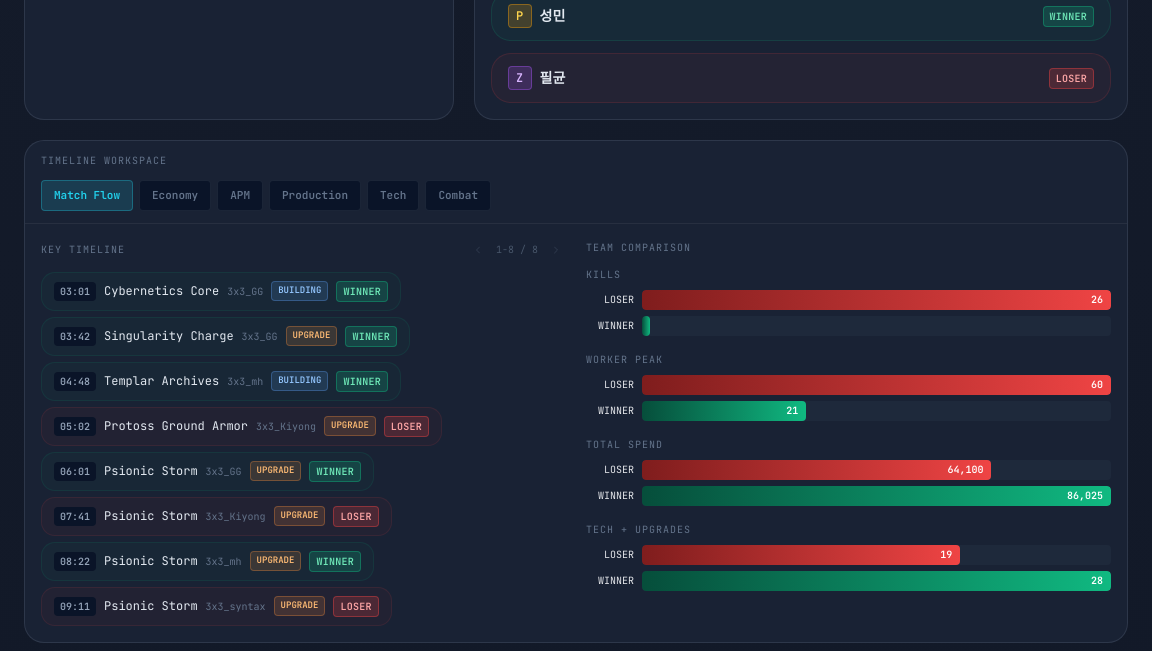
analyzer page › lets match-flow marker clicks focus and clear the shared selected-player state
(page scrolled)
Click the button "03:01 Cybernetics Core 3x3_GG BUILDING WINNER" at (221, 291), box [41, 272, 401, 310]
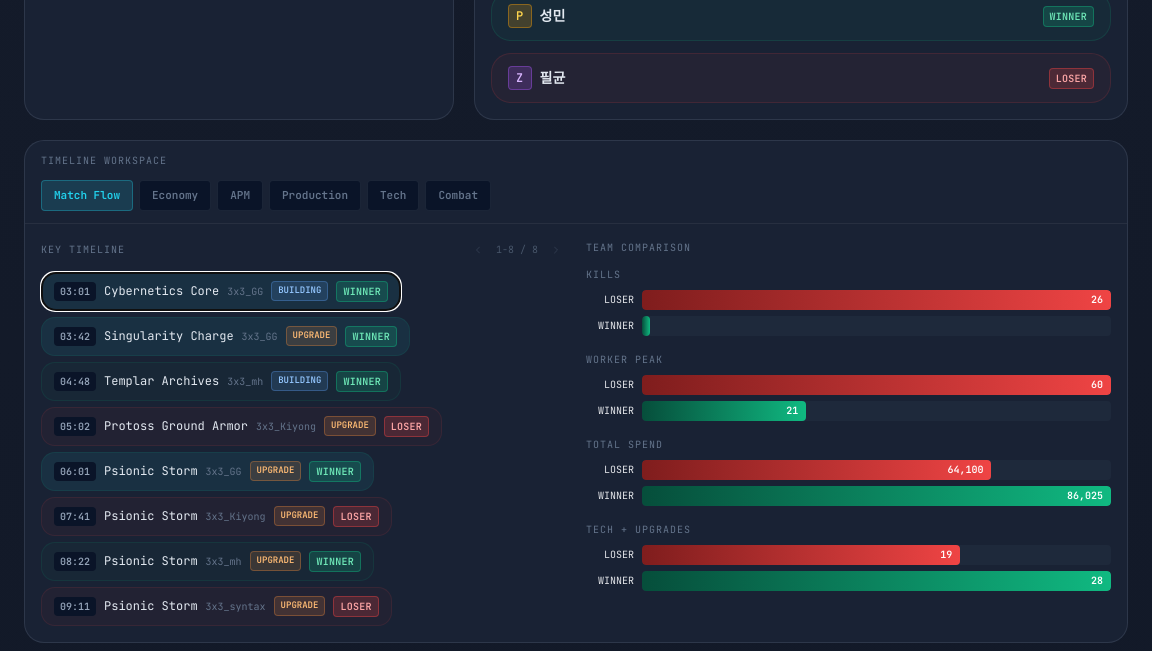
Click the button "03:01 Cybernetics Core 3x3_GG BUILDING WINNER" at (221, 291), box [41, 272, 401, 310]
(page scrolled)
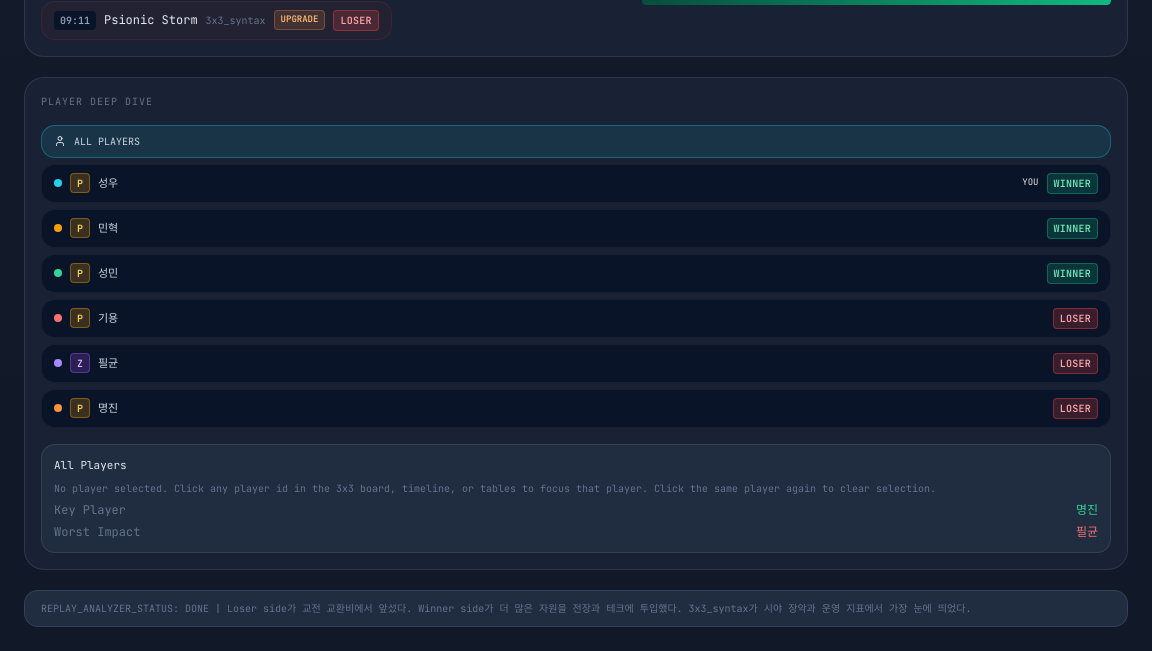
Result: the text "All Players" is shown at [54, 458, 127, 472]
Result: the text "Click any player id in the 3x3 board, timeline, or tables to focus that player" is shown at [54, 482, 936, 495]
